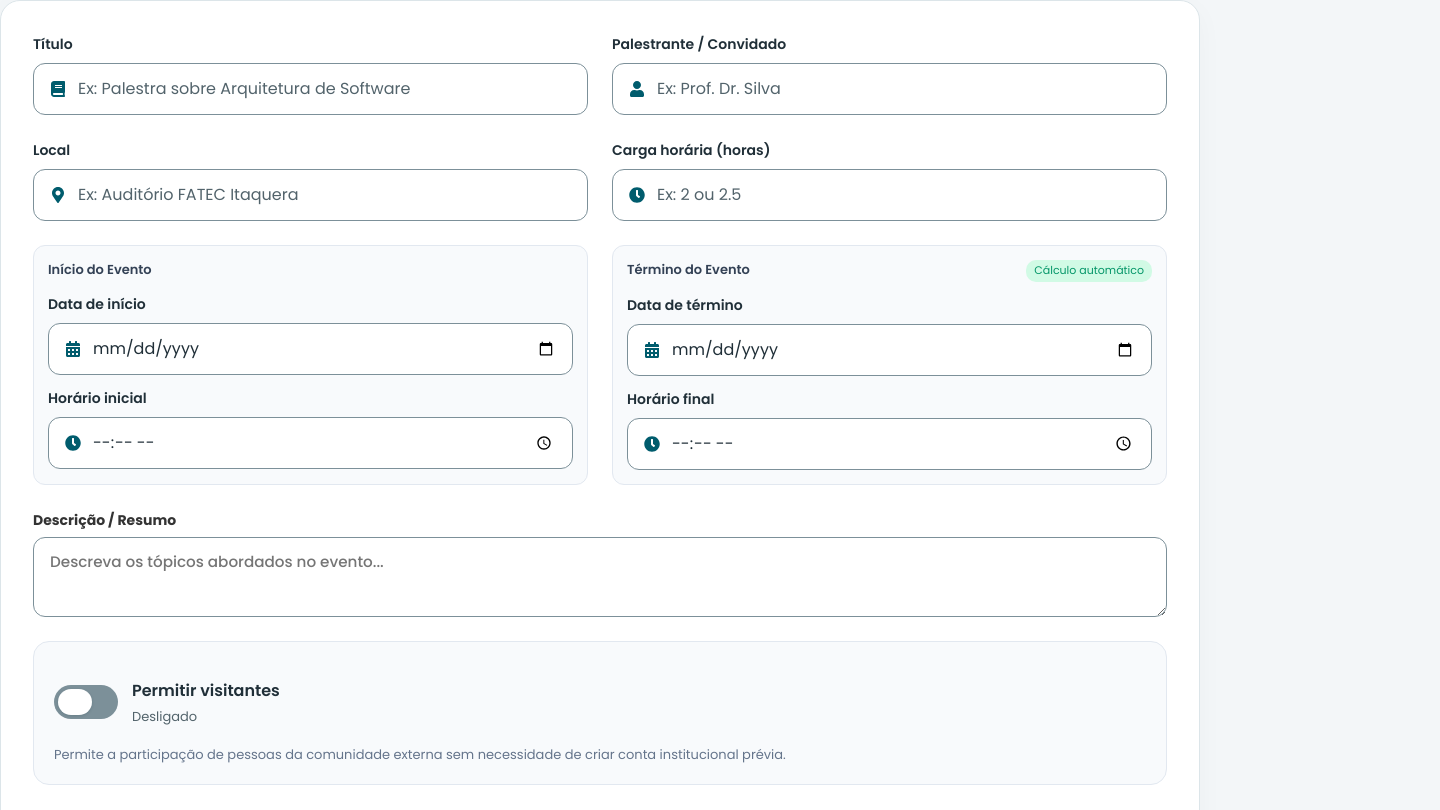
Test: EventForm component › switches to manual mode when user manually changes end date or time
The width and height of the screenshot is (1440, 810).
Type "2" into the field labelled "Carga horária (horas)".
click(904, 195); type("2")  # box [657, 170, 1150, 220]
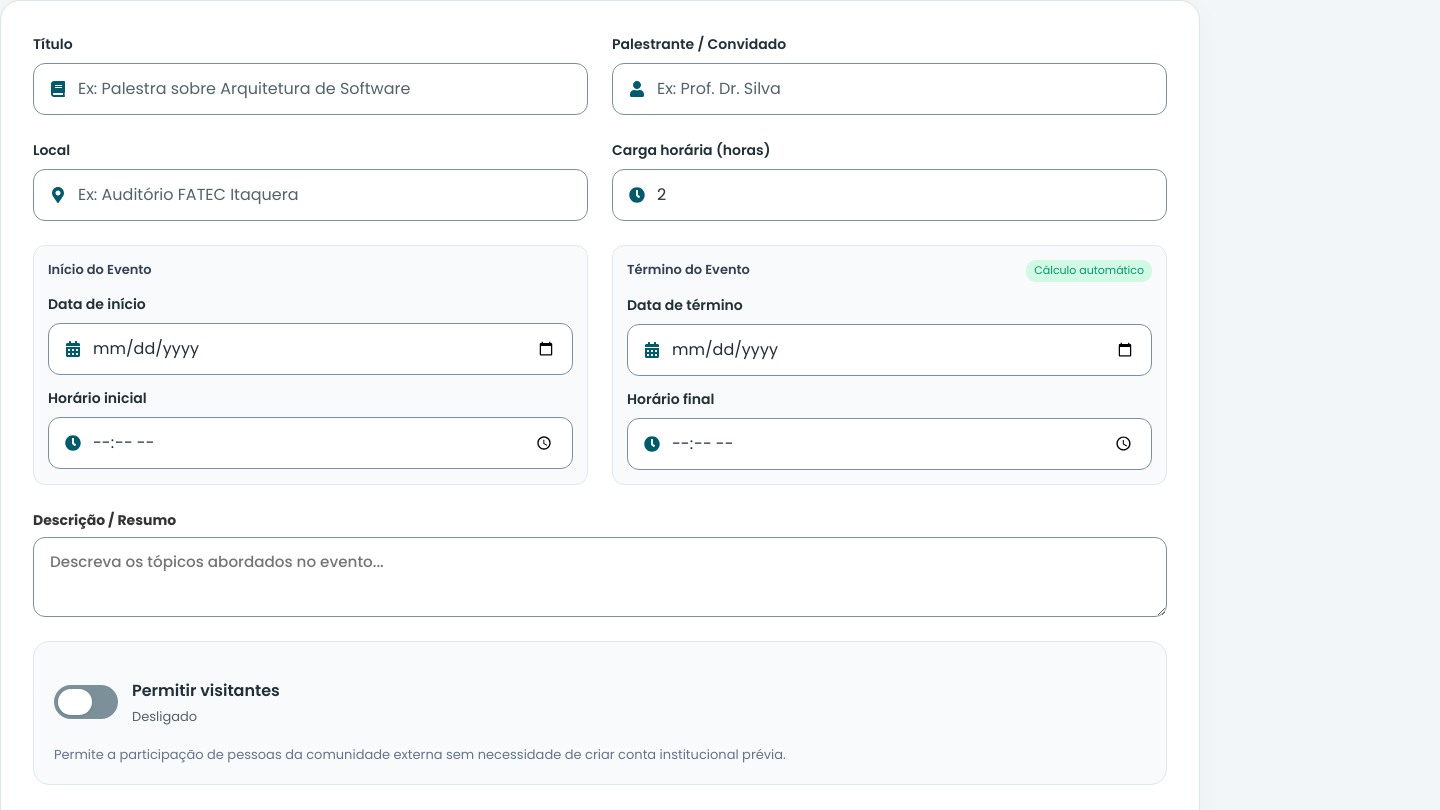
Type "2026-10-05" into the date field labelled "Data de início".
click(324, 349); type("2026-10-05")  # box [93, 324, 556, 374]
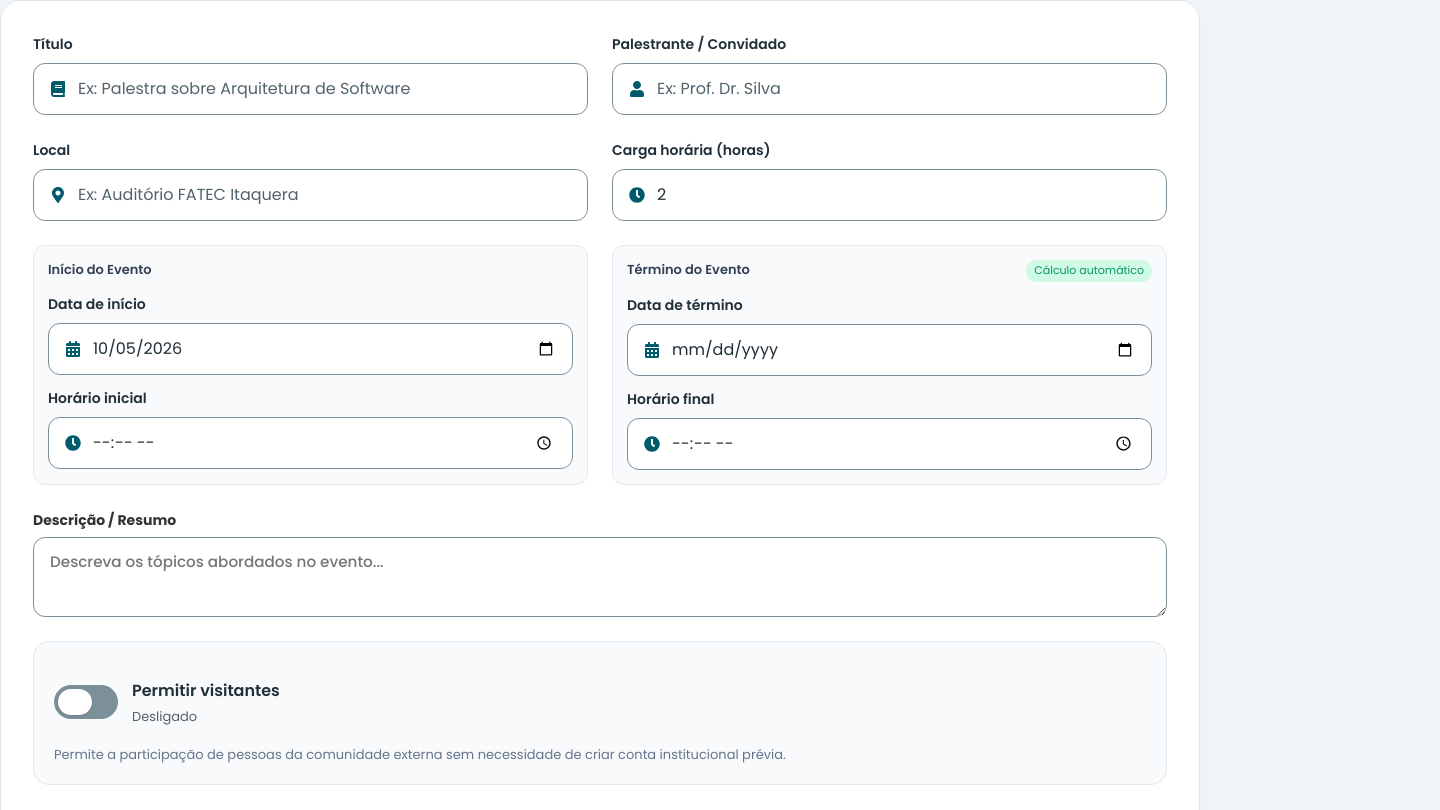
Type "19:00" into the time field labelled "Horário inicial".
click(324, 443); type("19:00")  # box [93, 418, 556, 468]
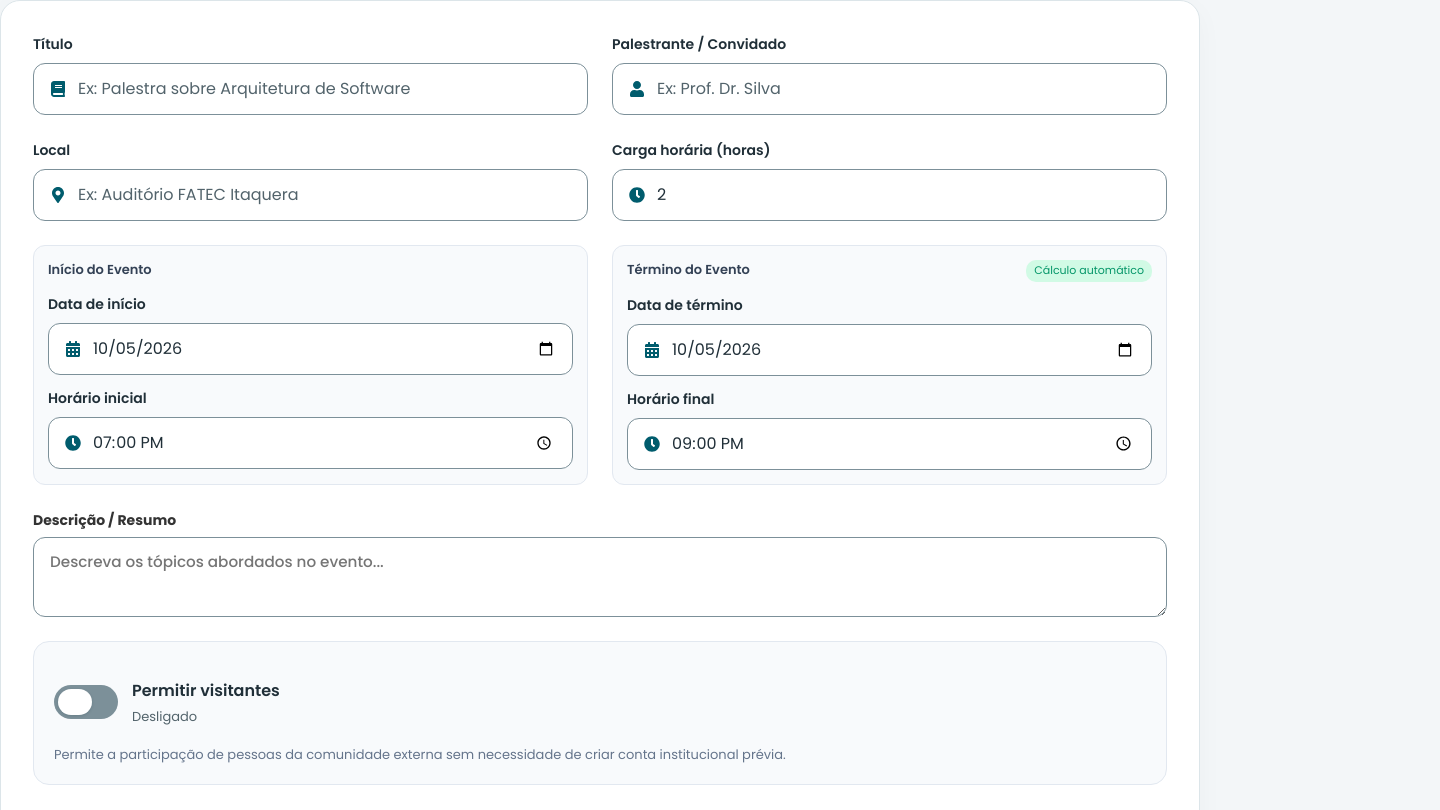
Result: the time field labelled "Horário final" holds "21:00"
Modifica o fim manualmente
Replace the text in the time field labelled "Horário final" with "22:00" at (904, 444), box [672, 419, 1135, 468]
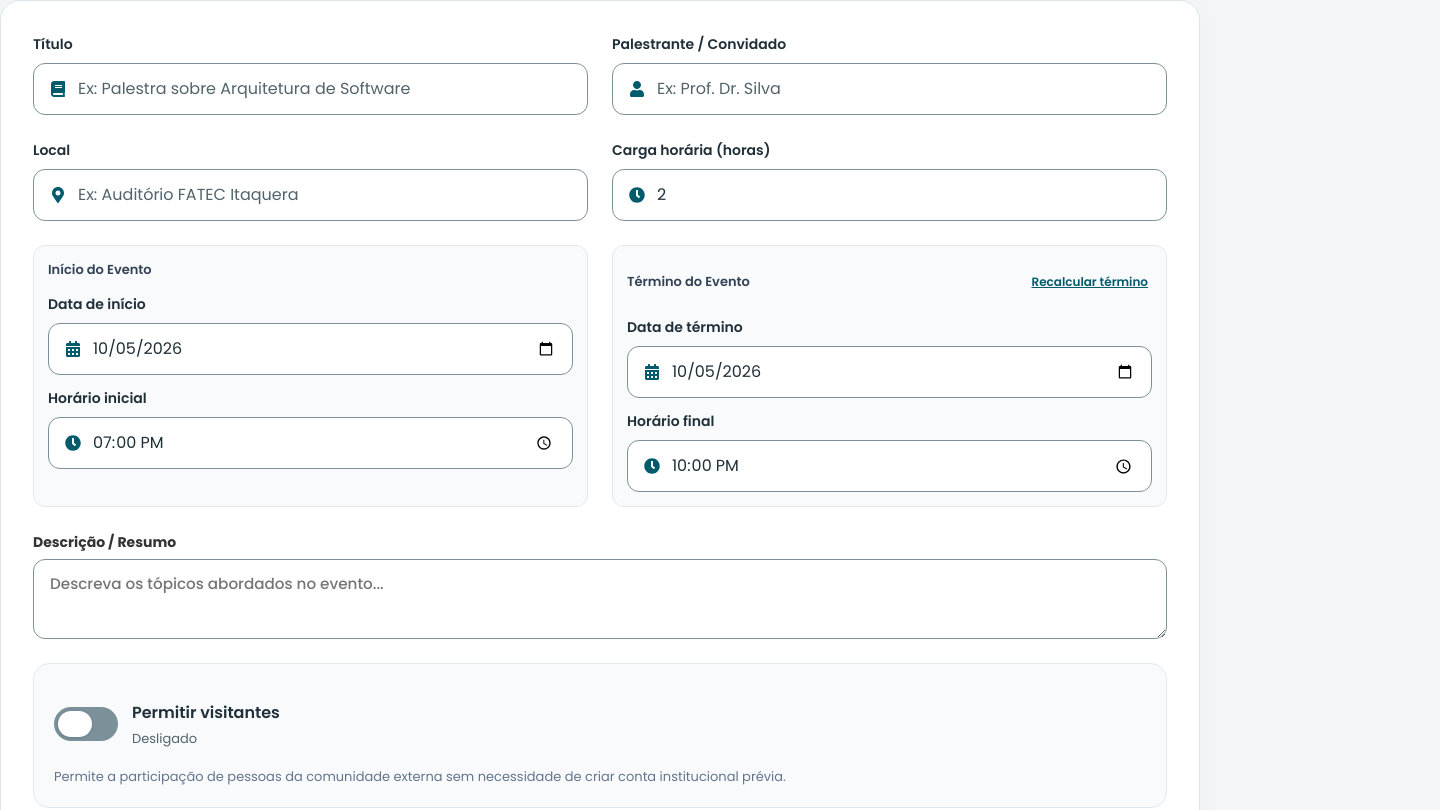
Result: the button "Recalcular término" is shown
Ao clicar em recalcular término, volta a calcular
Click the button "Recalcular término".
click(1090, 282)  # box [1028, 260, 1152, 304]
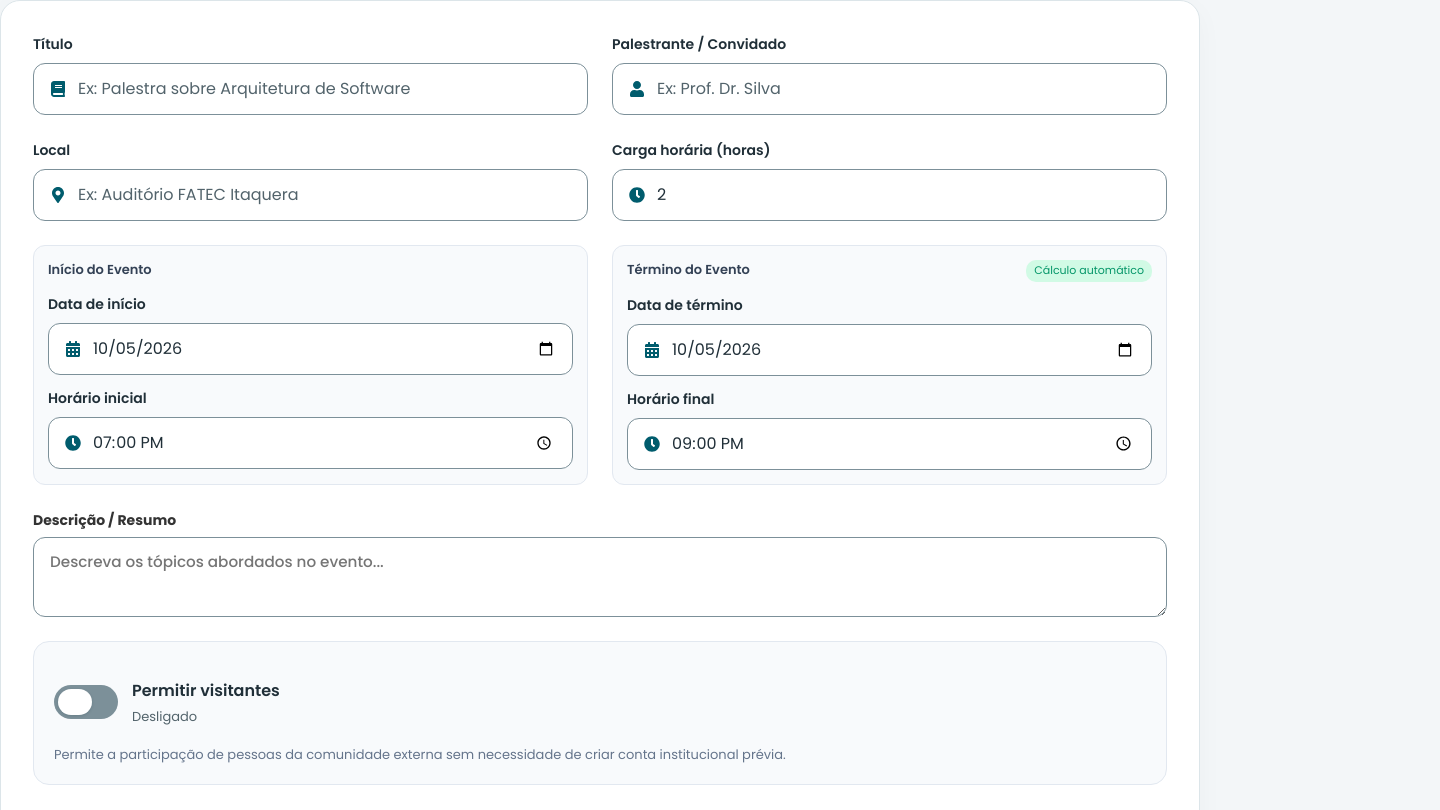
Result: the time field labelled "Horário final" holds "21:00" at [672, 419, 1135, 468]
